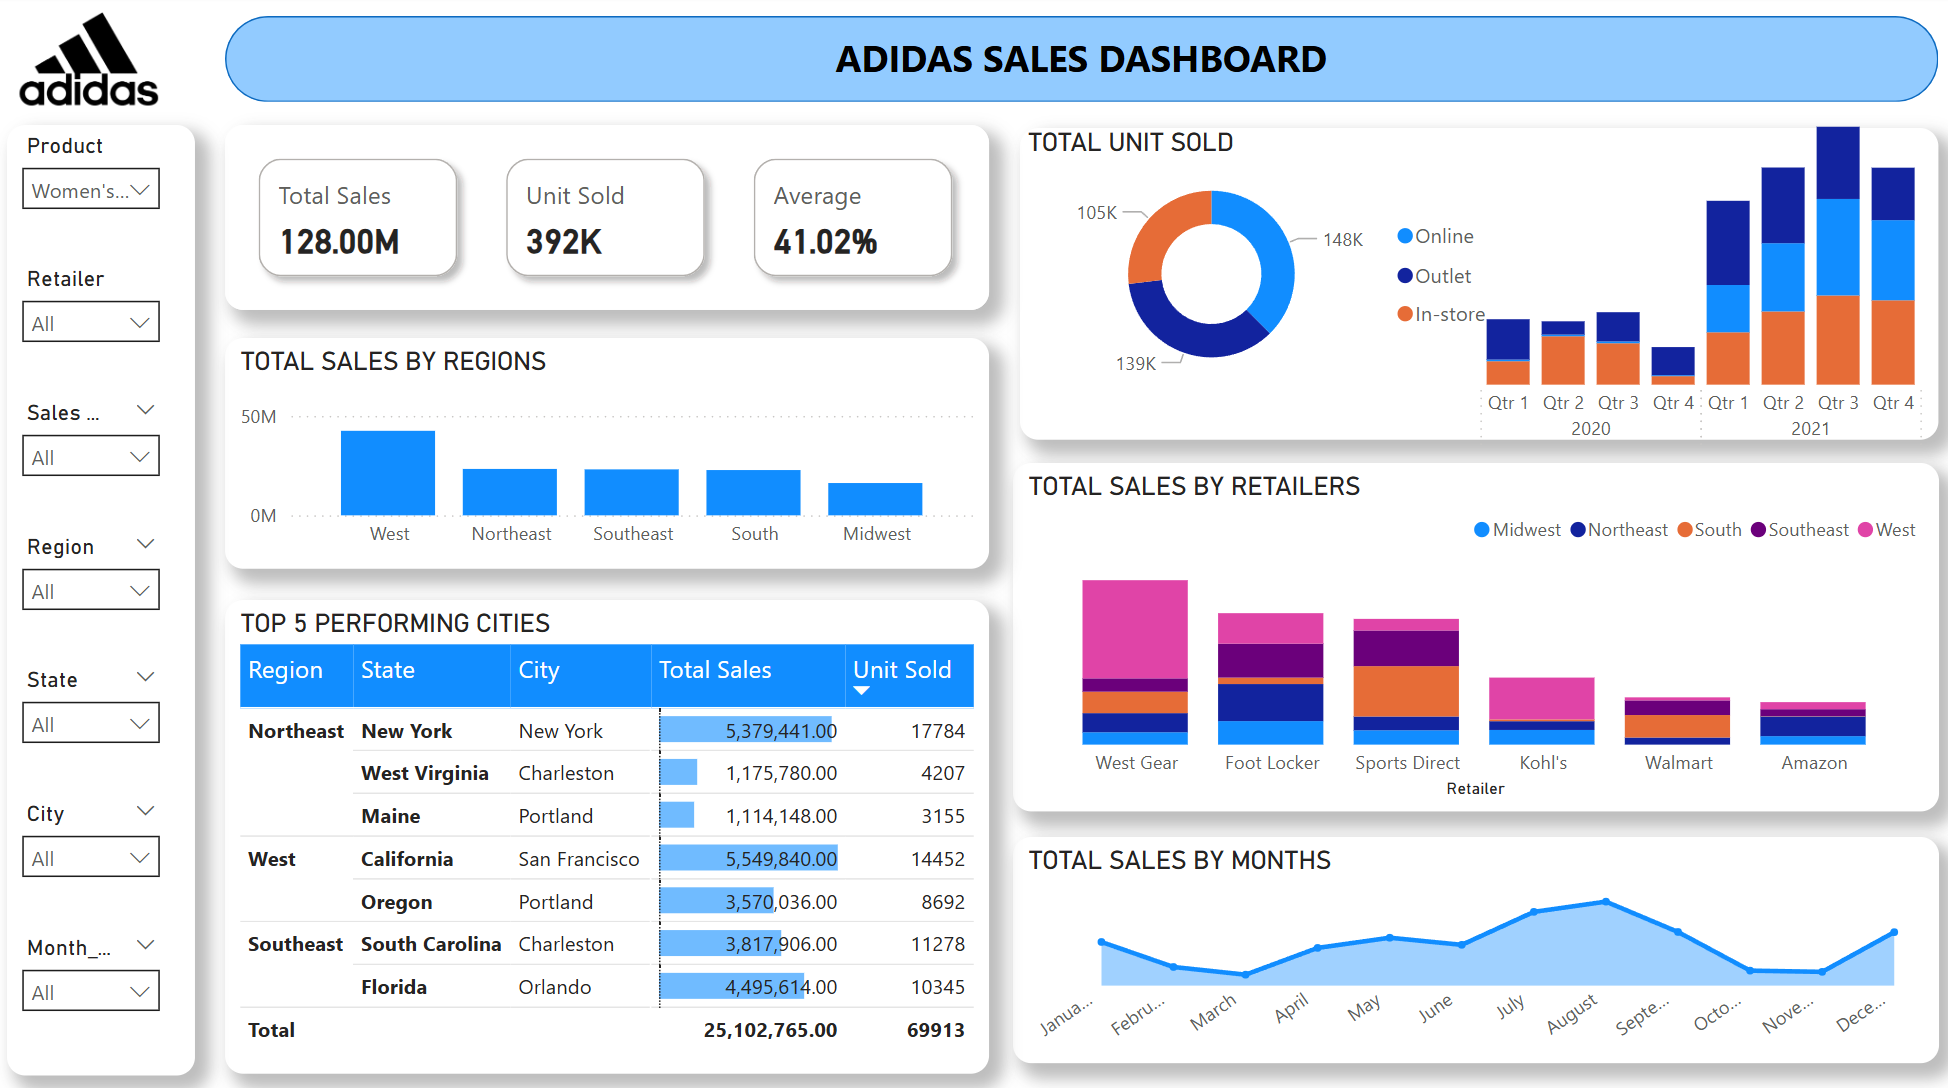

This screenshot's page, from the dashboard's own definition file:
{"tool":"powerbi","page":{"name":"Overview","canvas":[1280,720],"ordinal":0},"visuals":[{"type":"shape","box":[671.7,86.3,600.7,203.9],"z":0},{"type":"cardVisual","fields":{"Data":["Sum(Data Sales Adidas.Total Sales)","Sum(Data Sales Adidas.Units Sold)","Data Sales Adidas.Average"]},"box":[151,84.2,500.4,121.1],"z":1000},{"type":"donutChart","title":"TOTAL UNIT SOLD","fields":{"Y":["Sum(Data Sales Adidas.Unit Sold)"],"Category":["Data Sales Adidas.Sales Method"]},"box":[671.3,86,319.5,173.5],"z":2000},{"type":"columnChart","fields":{"Y":["Sum(Data Sales Adidas.Total Sales)"],"Category":["Data Sales Adidas.Invoice Date.Variation.Date Hierarchy.Year","Data Sales Adidas.Invoice Date.Variation.Date Hierarchy.Quarter"],"Series":["Data Sales Adidas.Sales Method"]},"box":[957.7,69.4,319.5,236],"z":3000},{"type":"columnChart","title":"TOTAL SALES BY RETAILERS","fields":{"Category":["Data Sales Adidas.Retailer"],"Y":["Sum(Data Sales Adidas.Total Sales)"],"Series":["Data Sales Adidas.Region"]},"box":[666.8,305.6,605.5,228.3],"z":4000},{"type":"areaChart","title":"TOTAL SALES BY MONTHS","fields":{"Category":["Data Sales Adidas.Invoice Date.Variation.Date Hierarchy.Month"],"Y":["Sum(Data Sales Adidas.Total Sales)"]},"box":[666.8,550.6,605.5,148.3],"z":5000},{"type":"columnChart","title":"TOTAL SALES BY REGIONS","fields":{"Y":["Sum(Data Sales Adidas.Total Sales)"],"Category":["Data Sales Adidas.Region"]},"box":[151,224.1,500.4,151],"z":6000},{"type":"pivotTable","title":"TOP 5 PERFORMING CITIES","fields":{"Rows":["Data Sales Adidas.Region","Data Sales Adidas.State","Data Sales Adidas.City"],"Values":["Sum(Data Sales Adidas.Total Sales)","Sum(Data Sales Adidas.Unit Sold)"]},"box":[151,395.3,500.4,310.4],"z":7000},{"type":"shape","box":[8.4,84.2,122.5,621.6],"z":8000},{"type":"slicer","fields":{"Values":["Data Sales Adidas.Product"]},"box":[8.7,84.1,109.7,104.6],"z":9000},{"type":"slicer","fields":{"Values":["Data Sales Adidas.Retailer"]},"box":[8.7,171.6,109.7,104.6],"z":10000},{"type":"slicer","fields":{"Values":["Data Sales Adidas.Sales Method"]},"box":[8.7,259.1,109.7,104.6],"z":11000},{"type":"slicer","fields":{"Values":["Data Sales Adidas.Region"]},"box":[8.7,346.6,109.7,104.6],"z":12000},{"type":"slicer","fields":{"Values":["Data Sales Adidas.State"]},"box":[8.7,434.1,109.7,104.6],"z":13000},{"type":"slicer","fields":{"Values":["Data Sales Adidas.City"]},"box":[8.7,521.5,109.7,104.6],"z":14000},{"type":"slicer","fields":{"Values":["Data Sales Adidas.Month_Year"]},"box":[8.7,609,109.7,104.6],"z":15000},{"type":"image","box":[9.7,0,107.2,84.2],"z":16000},{"type":"shape","box":[151,13.2,1121.3,56.4],"z":17000},{"type":"textbox","box":[518.5,18.8,386.3,46.6],"z":18000}]}

Visuals, with their boxes in screenshot pixels (x1, y1, x2, y2), scaled from the page's 1280x720 canvas onto the 1948x1088 screenshot:
shape: <box>1022,130,1936,439</box>
cardVisual - Sum(Data Sales Adidas.Total Sales) x Sum(Data Sales Adidas.Units Sold): <box>230,127,991,310</box>
"TOTAL UNIT SOLD" donutChart: <box>1022,130,1508,392</box>
columnChart - Sum(Data Sales Adidas.Total Sales) x Data Sales Adidas.Invoice Date.Variation.Date Hierarchy.Year: <box>1457,105,1944,461</box>
"TOTAL SALES BY RETAILERS" columnChart: <box>1015,462,1936,807</box>
"TOTAL SALES BY MONTHS" areaChart: <box>1015,832,1936,1056</box>
"TOTAL SALES BY REGIONS" columnChart: <box>230,339,991,567</box>
"TOP 5 PERFORMING CITIES" pivotTable: <box>230,597,991,1066</box>
shape: <box>13,127,199,1067</box>
slicer - Data Sales Adidas.Product: <box>13,127,180,285</box>
slicer - Data Sales Adidas.Retailer: <box>13,259,180,417</box>
slicer - Data Sales Adidas.Sales Method: <box>13,392,180,550</box>
slicer - Data Sales Adidas.Region: <box>13,524,180,682</box>
slicer - Data Sales Adidas.State: <box>13,656,180,814</box>
slicer - Data Sales Adidas.City: <box>13,788,180,946</box>
slicer - Data Sales Adidas.Month_Year: <box>13,920,180,1078</box>
image: <box>15,0,178,127</box>
shape: <box>230,20,1936,105</box>
textbox: <box>789,28,1377,99</box>
